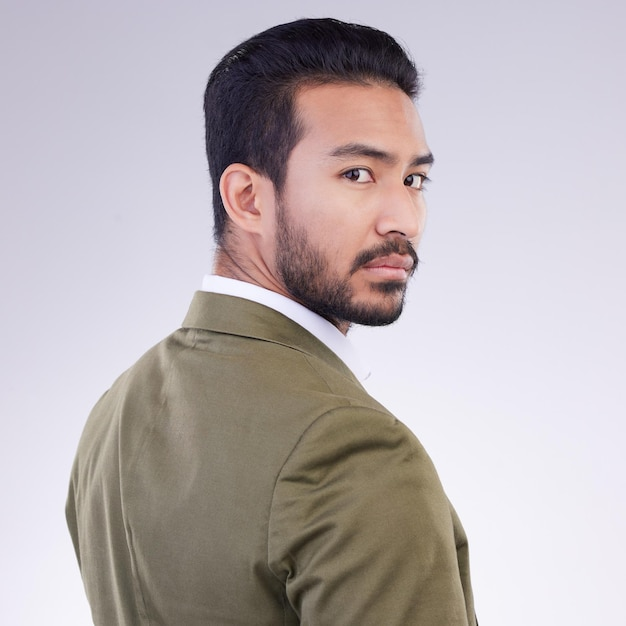young: (195, 24, 431, 329)
